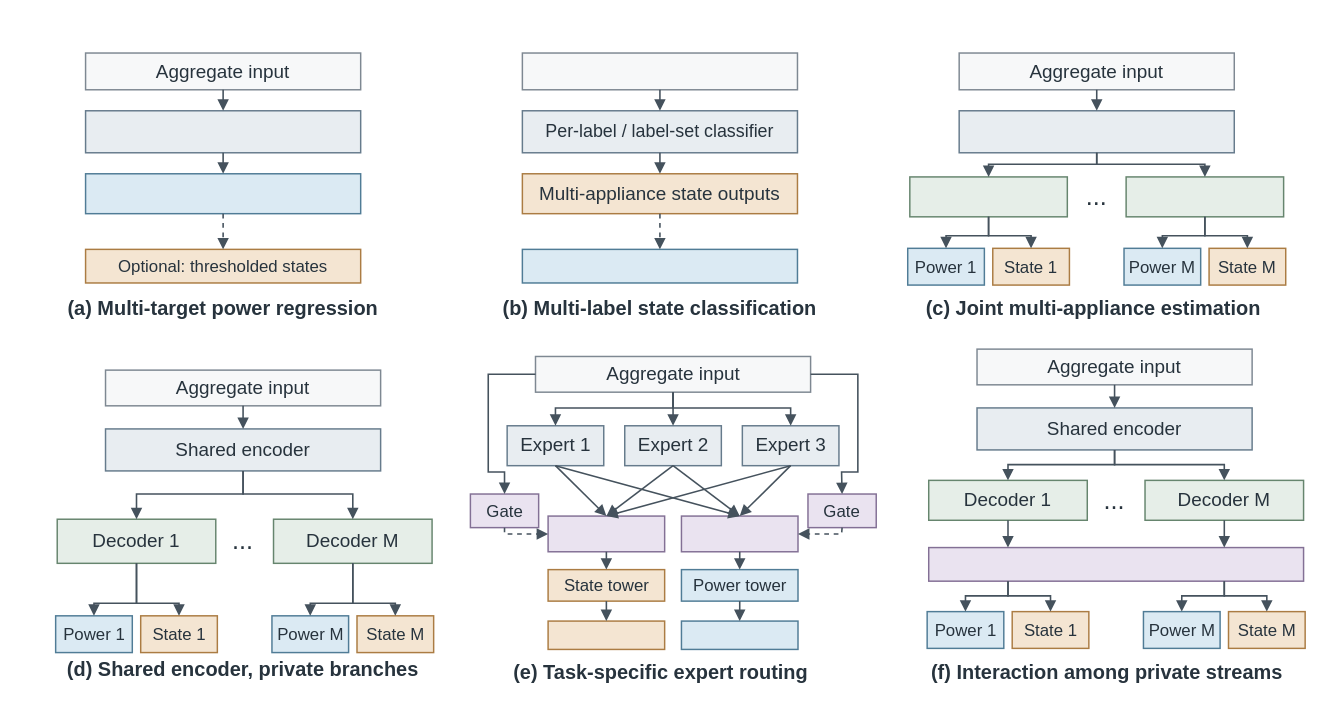
Some shapes in this 1329 by 707 pixel diagram are drawn without their labels. The shapes that lost their labels are listed below. From the top down, each one's centre as x and y in pixels, then its label:
pixel 659 71: Aggregate input / features
pixel 222 131: Shared feature extraction
pixel 1096 131: Shared representation
pixel 222 193: Multi-appliance power outputs
pixel 988 196: Appliance 1
pixel 1204 196: Appliance M
pixel 659 265: Optional: state power lookup
pixel 606 533: State fusion
pixel 739 533: Power fusion
pixel 1115 563: Cross-appliance feature interaction
pixel 606 635: State
pixel 739 635: Power
